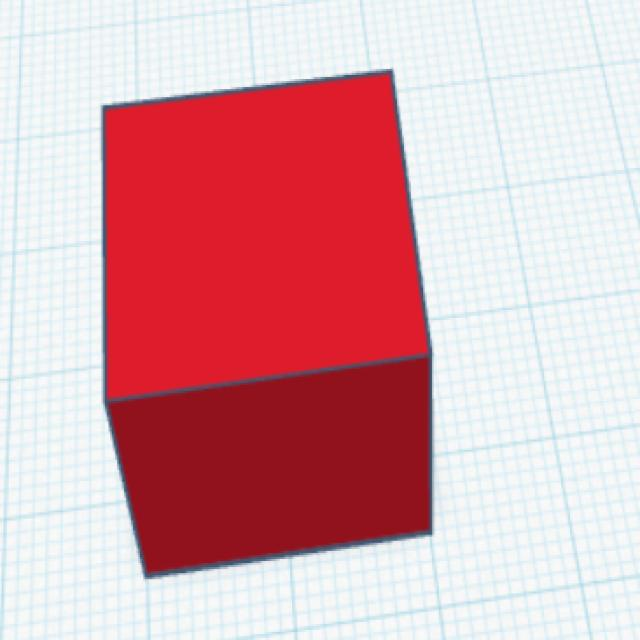cube: (98, 65, 438, 582)
